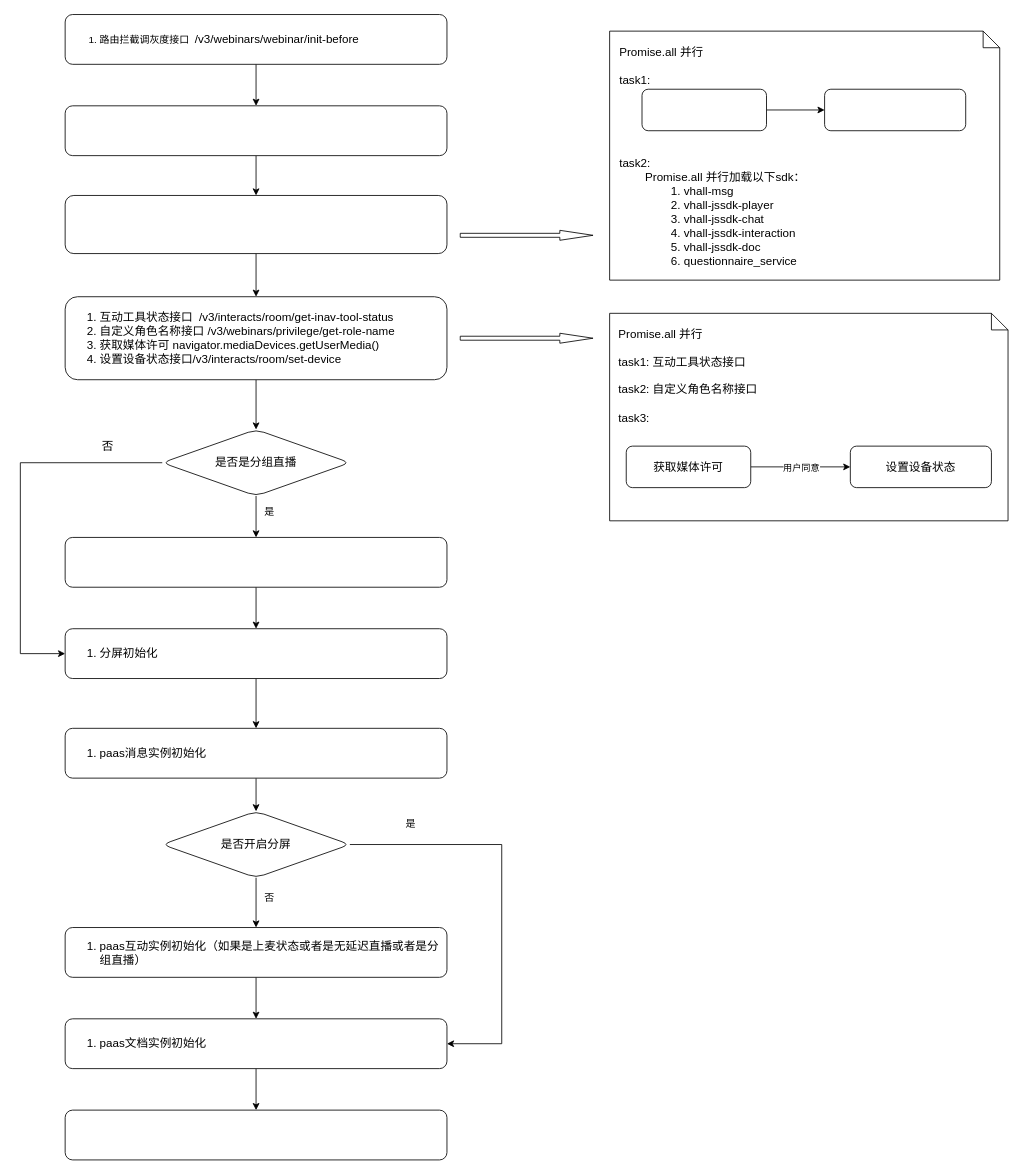
This 1023x1174 diagram has some shape labels left out. The shapes that lost their labels are listed below. From the top down, each one's centre as x and y in pixels, then its label:
At (x=704, y=109): "日志上报sdk加载".
At (x=895, y=109): "发起端初始化接口".
At (x=255, y=130): "页面开始显示loading".
At (x=255, y=224): "加载日志上报sdk 发起端初始化接口 /v3/webinars/live/init 加载paassdk".
At (x=255, y=562): "分组信息初始化接口 /v3/interacts/group/init".
At (x=255, y=1134): "页面loading结束，开始渲染页面".
